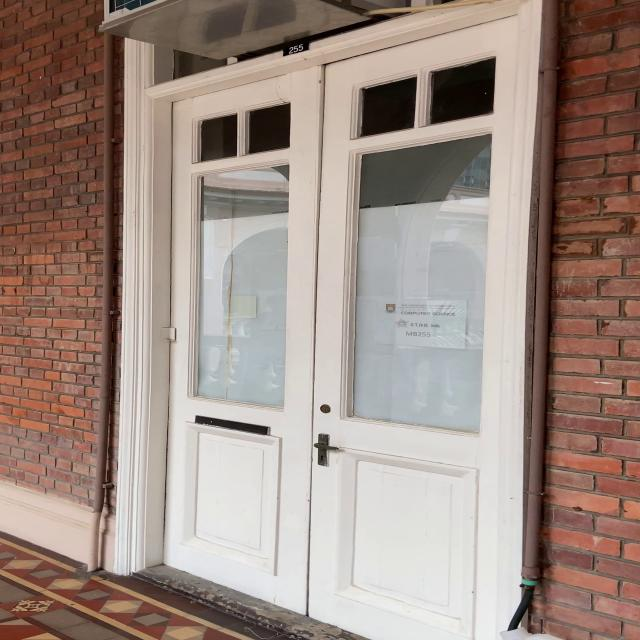room255: (280, 41, 312, 58)
